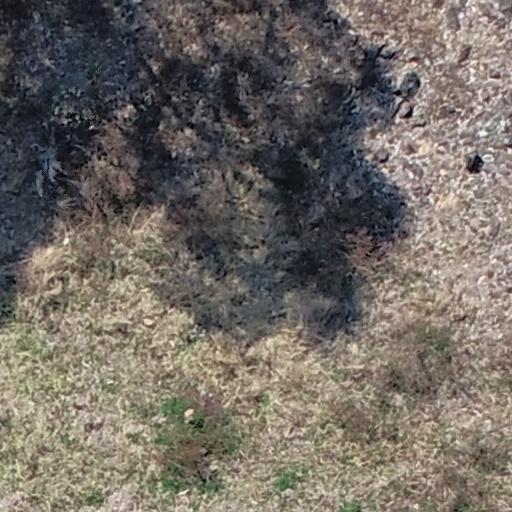stone: (396, 71, 422, 100), (376, 44, 402, 60), (453, 42, 469, 64), (374, 147, 392, 163), (397, 101, 413, 118), (182, 408, 197, 426), (206, 462, 223, 476), (140, 316, 156, 328), (411, 118, 427, 129), (72, 400, 88, 409), (176, 488, 190, 498), (490, 70, 502, 80), (168, 337, 176, 350), (62, 236, 70, 247)
